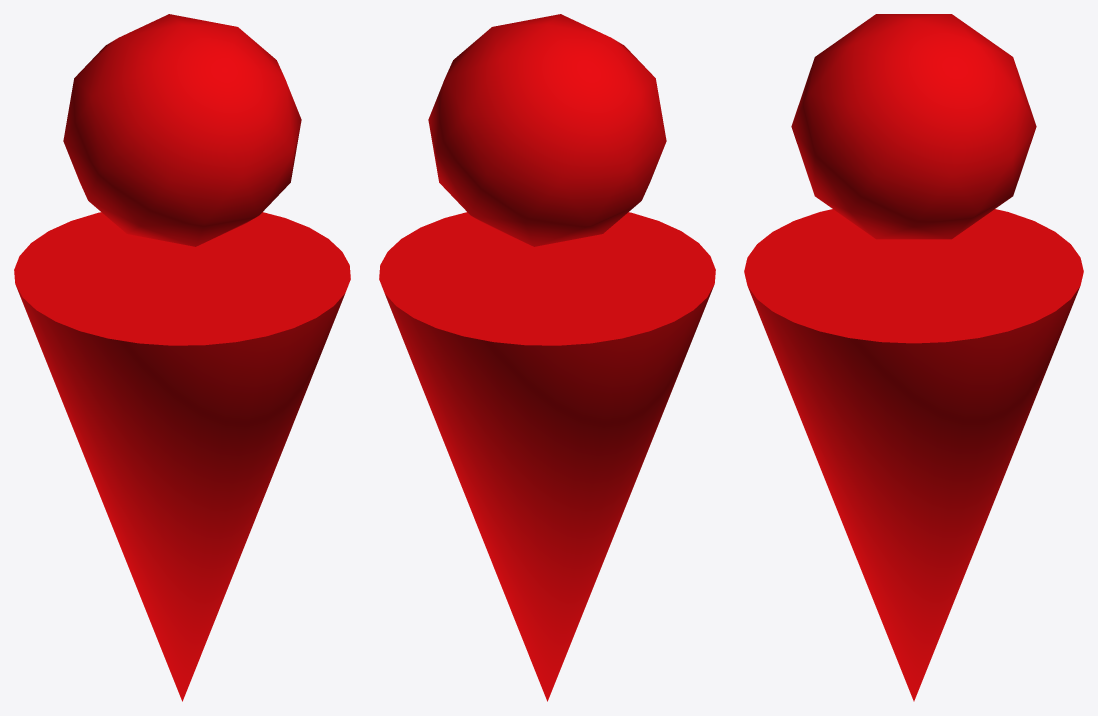
Rendered from person.glb.
3 views of the same model, side by side, from view 1: azimuth 30°, elevation 25°; view 2: azimuth 150°, elevation 25°; view 3: azimuth 270°, elevation 25° (orthographic).
Parts seen in each view (by area): view 1: Icosphere; view 2: Icosphere; view 3: Icosphere.
Part boxes in pixels (left/top/right/bottom): Icosphere: left=14, top=14, right=350, bottom=701; Icosphere: left=379, top=14, right=715, bottom=701; Icosphere: left=744, top=14, right=1083, bottom=701.
Bounding box in the file's own units: 0.7875 × 1.74 × 0.7875.
